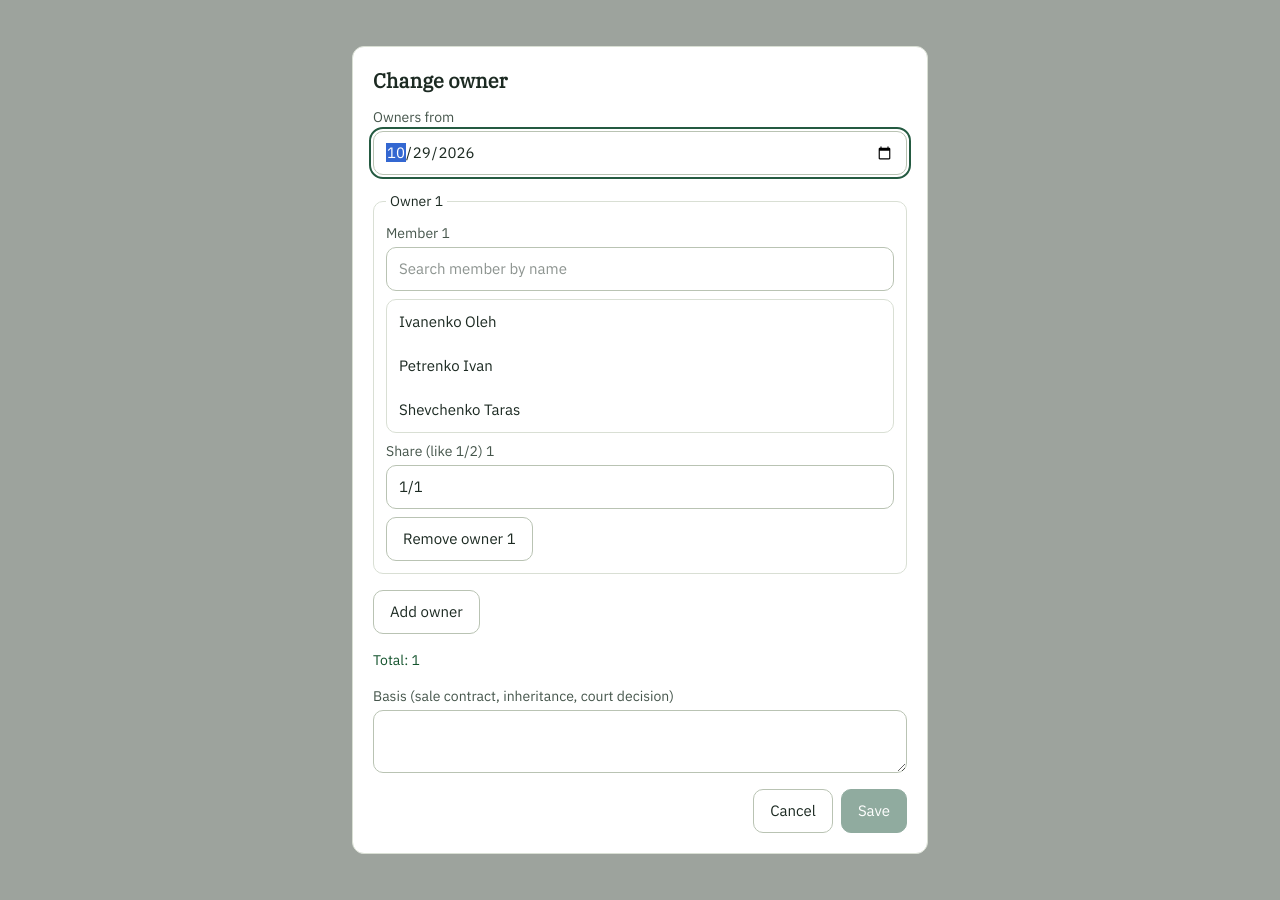
Scenario: ChangeOwnerDialog › keeps Save disabled at 1/2 + 1/3 and shows the total 5/6
Click the button "Ivanenko Oleh": [448, 321] box [387,300,893,344]
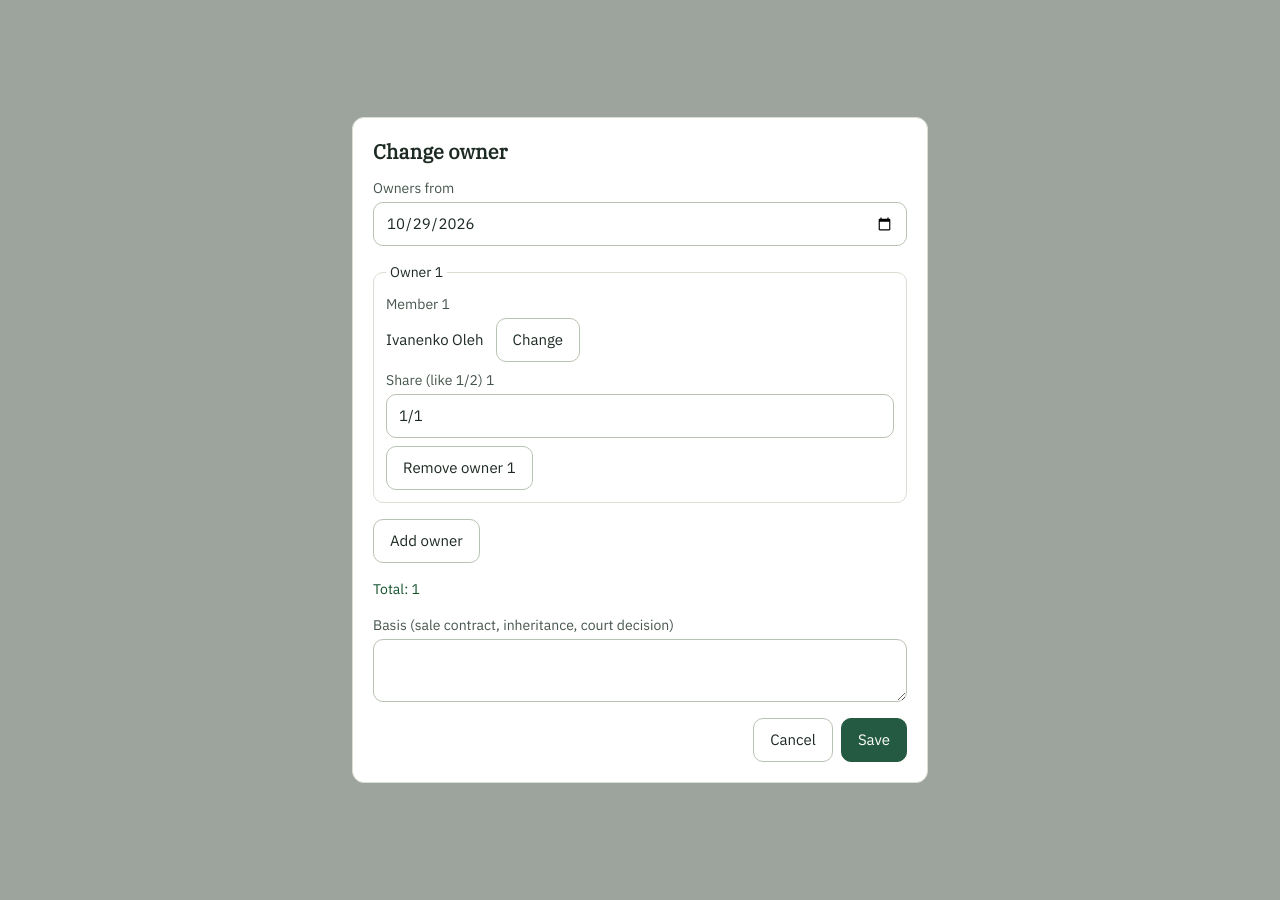
Replace the text in the field labelled "Share (like 1/2) 1" with "1/2": [640, 416] box [386,394,894,438]
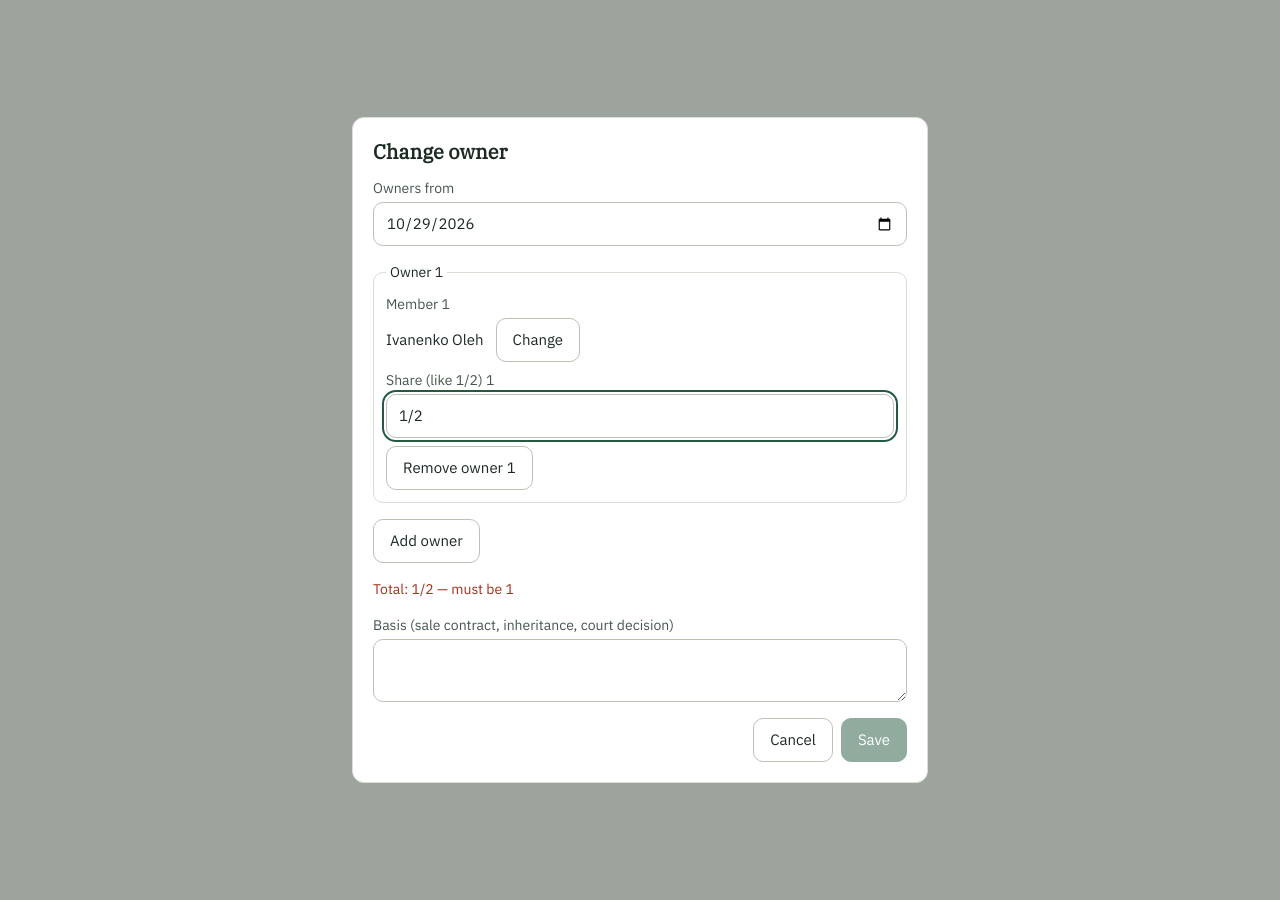
Click the button "Add owner": [426, 541] box [373,519,480,563]
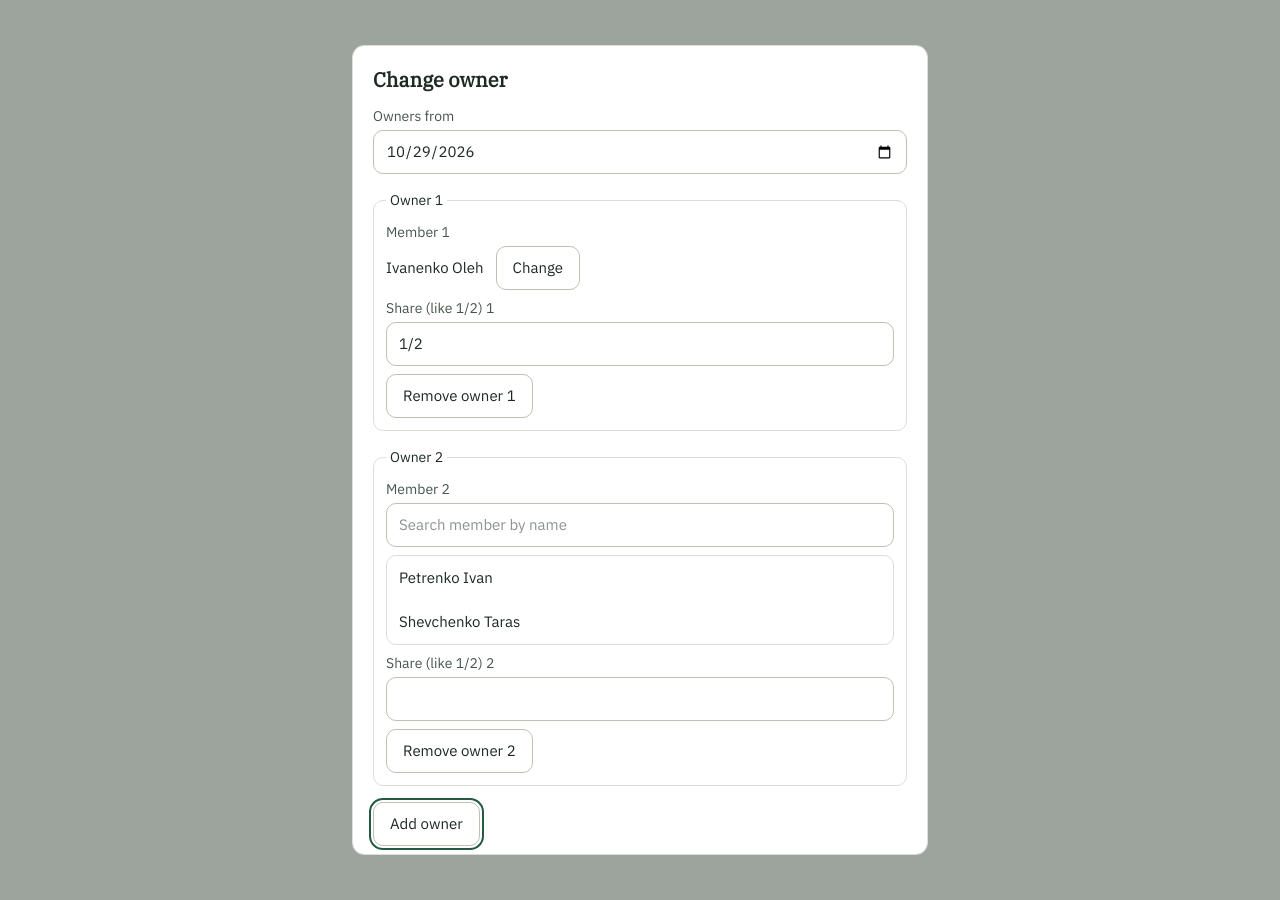
Click the button "Petrenko Ivan": [446, 577] box [387,556,893,600]
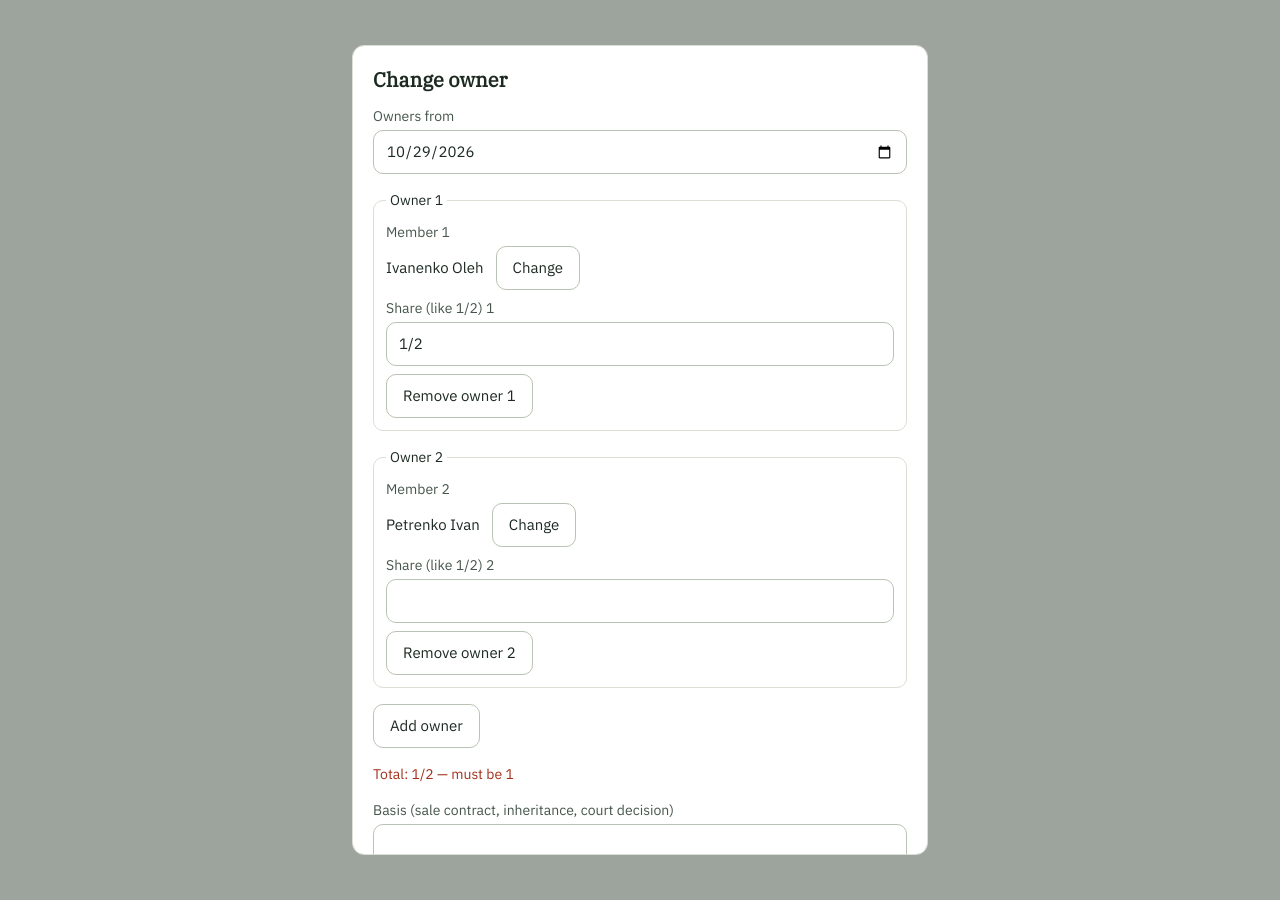
In the field labelled "Share (like 1/2) 2": [640, 601] box [386,579,894,623], type "1/3"
(page scrolled)
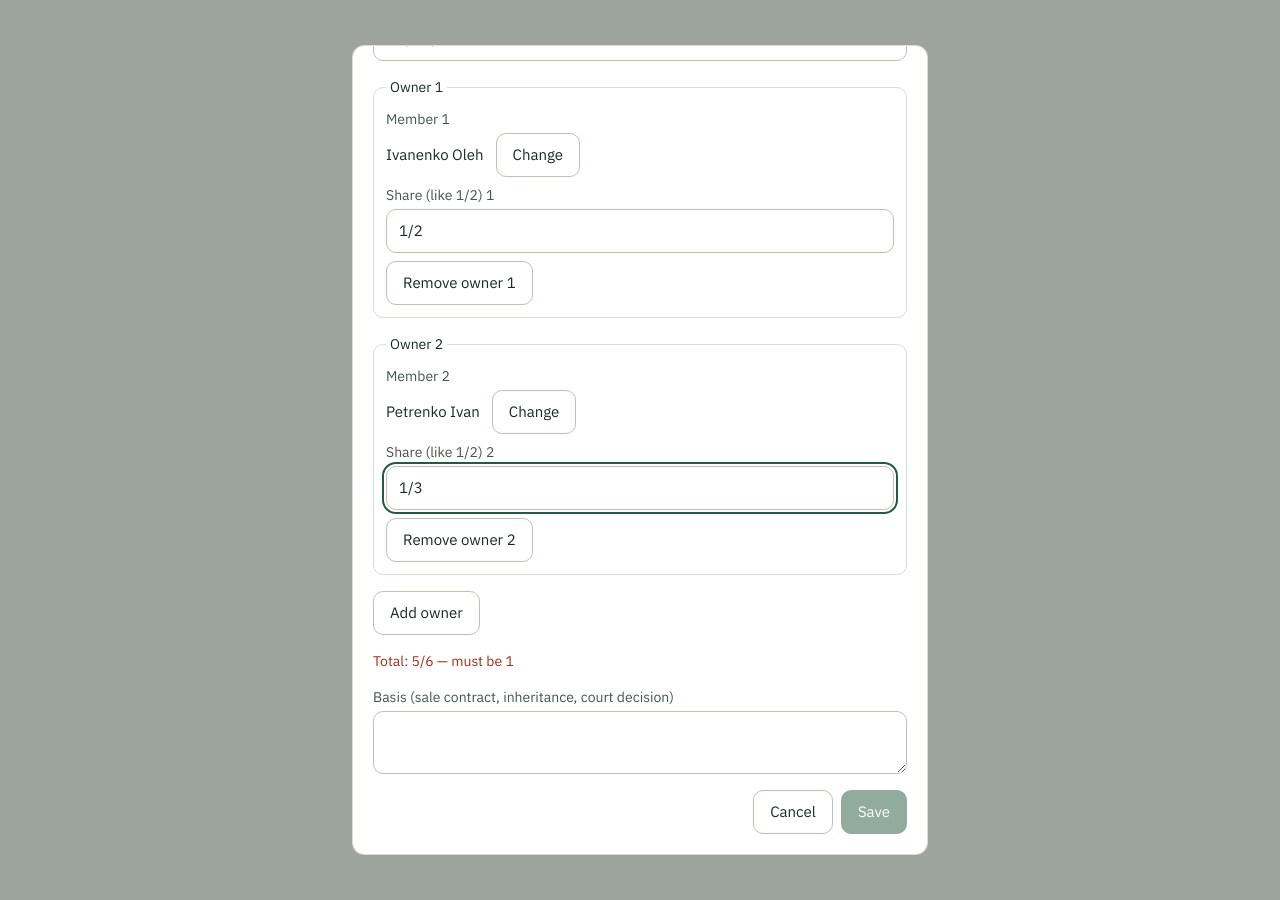
Now the message reads "Total: 5/6 — must be 1", box [373,652,514,670]
Now the button "Save" is disabled, box [841,790,907,834]
